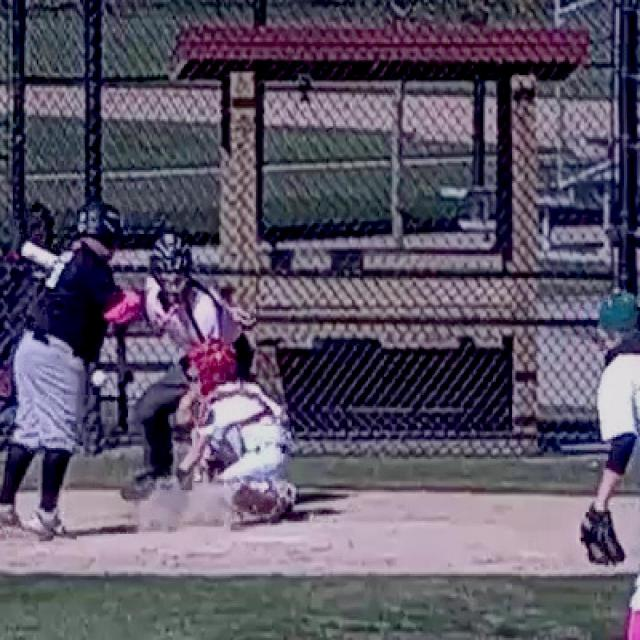baseball: (92, 371, 104, 385)
